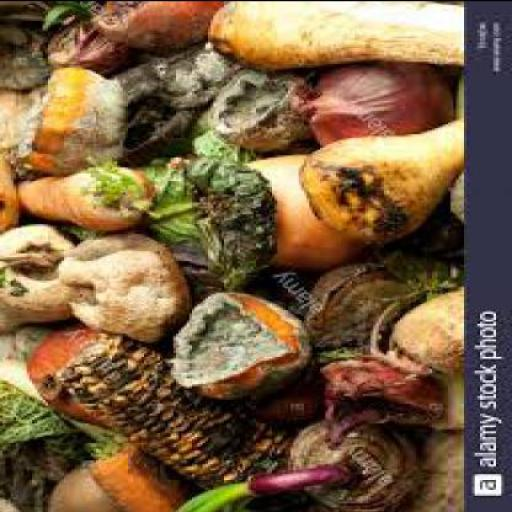biodegradable: (0, 1, 460, 510), (53, 334, 300, 510), (24, 324, 317, 434), (142, 134, 274, 291), (302, 117, 462, 242), (206, 2, 462, 72), (304, 258, 462, 356), (243, 156, 376, 272), (168, 293, 306, 401), (56, 232, 184, 344), (293, 58, 450, 148), (112, 42, 226, 164), (286, 416, 422, 511), (0, 379, 90, 511), (11, 66, 117, 176), (314, 360, 440, 450), (363, 288, 462, 384), (14, 166, 146, 234), (206, 68, 312, 152), (0, 358, 105, 440), (174, 463, 350, 511), (0, 225, 74, 336), (85, 436, 182, 510), (88, 2, 221, 55), (398, 427, 462, 511), (40, 21, 126, 73), (0, 16, 48, 94), (80, 160, 149, 213), (393, 213, 464, 260), (48, 463, 116, 511), (320, 395, 379, 449), (424, 360, 458, 434), (0, 90, 22, 162), (34, 2, 88, 31), (0, 152, 18, 238), (10, 326, 42, 360), (440, 168, 458, 228), (451, 72, 461, 126)
